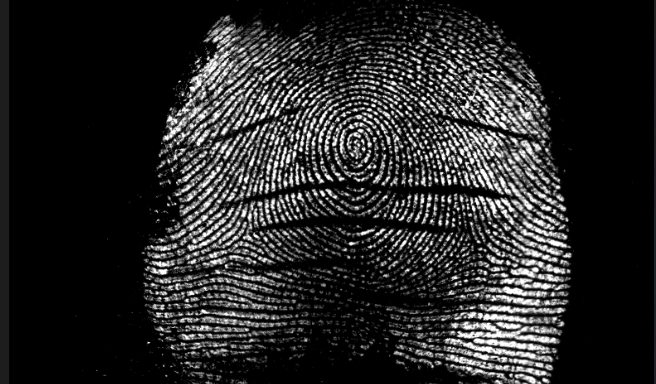deltas: (452, 219, 496, 267), (221, 216, 267, 259)
nucleo: (333, 120, 385, 173)
